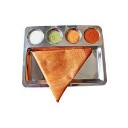dosa: (28, 47, 95, 102)
